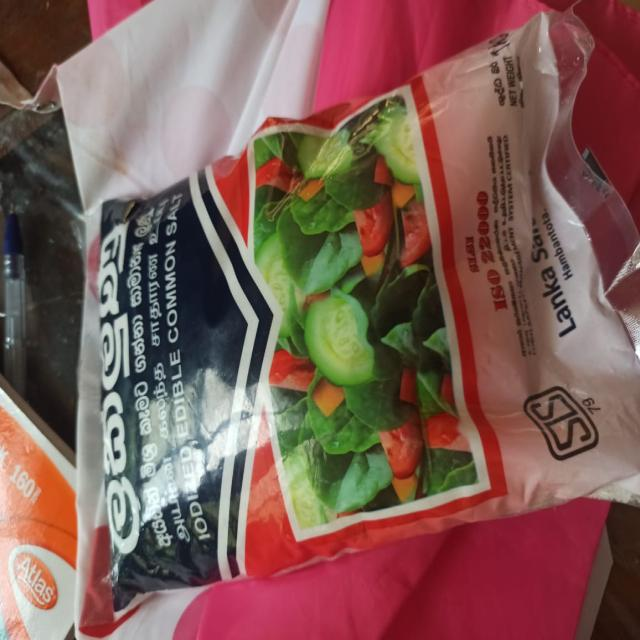Lak Lunu: (40, 58, 640, 594)
